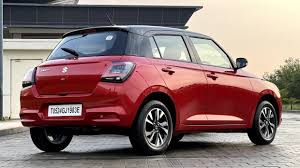Swift: (19, 24, 285, 156)
